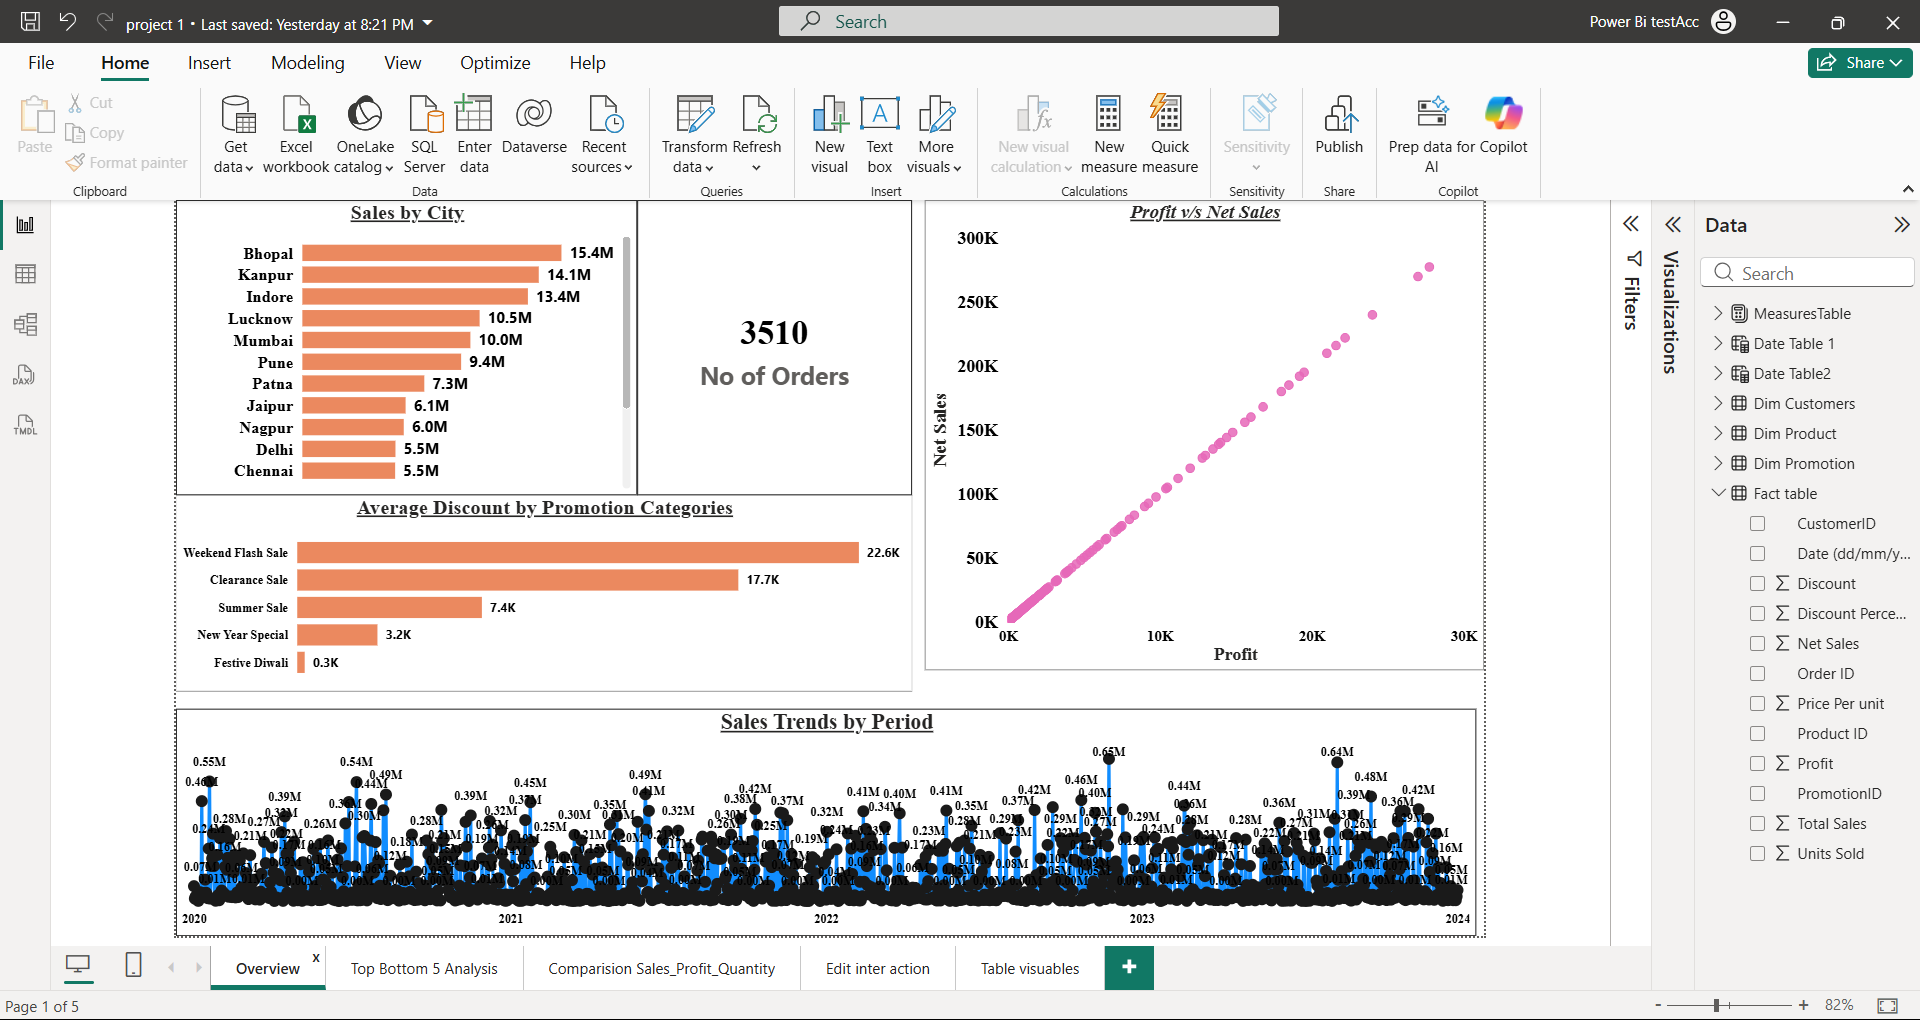

What the dashboard file says about the page in this screenshot:
{"tool":"powerbi","page":{"name":"Overview","canvas":[1280,720],"ordinal":0},"visuals":[{"type":"lineChart","title":"Sales Trends by Period","fields":{"Category":["Fact table.Date (dd/mm/yyyy)"],"Y":["Sum(Fact table.Net Sales)"]},"box":[0,498.1,1272,222.3],"z":0},{"type":"scatterChart","title":"Profit v/s Net Sales","fields":{"X":["Fact table.Profit"],"Y":["Fact table.Net Sales"]},"box":[732.5,0,547.5,460],"z":1000},{"type":"barChart","title":"Average  Discount  by Promotion Categories","fields":{"Y":["Avg(Fact table.Discount )"],"Category":["Dim Promotion.Promotion Name"]},"box":[0,288.6,720.2,192],"z":2000},{"type":"barChart","title":"Sales by City","fields":{"Category":["Dim Customers.City"],"Y":["Sum(Fact table.Net Sales)"]},"box":[0,0,451.2,288.8],"z":3000},{"type":"card","fields":{"Values":["Count(Fact table.Order ID)"]},"box":[451,0,269,289],"z":4000}]}

Visuals, with their boxes on the page's 1280x720 design canvas (x1, y1, x2, y2). These are canvas units, not pixel positions in the 1920x1020 screenshot, which may show the page scaled, cropped or inside an application window:
"Sales Trends by Period" lineChart: <box>0,498,1272,720</box>
"Profit v/s Net Sales" scatterChart: <box>732,0,1280,460</box>
"Average  Discount  by Promotion Categories" barChart: <box>0,289,720,481</box>
"Sales by City" barChart: <box>0,0,451,289</box>
card - Count(Fact table.Order ID): <box>451,0,720,289</box>
